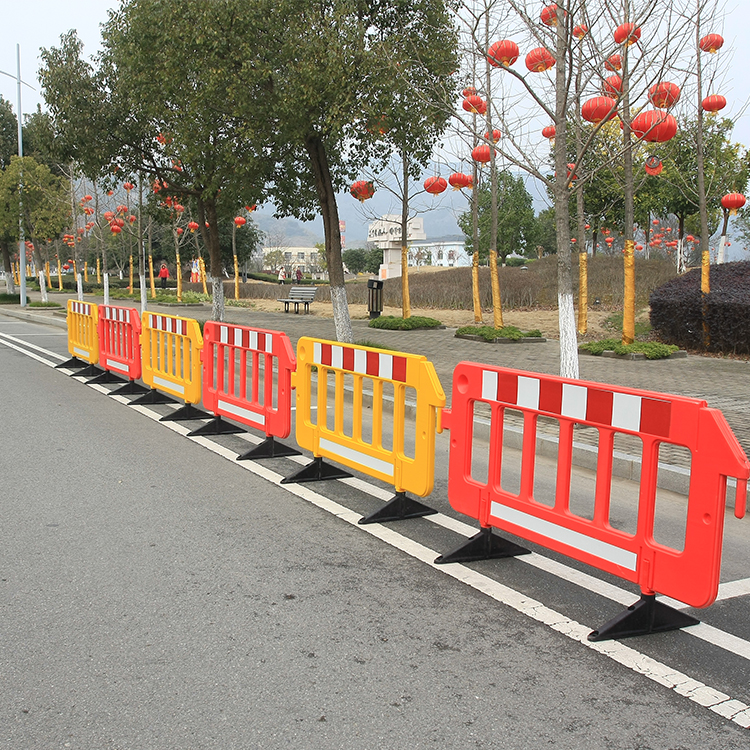not_damaged: (32, 253, 748, 623)
